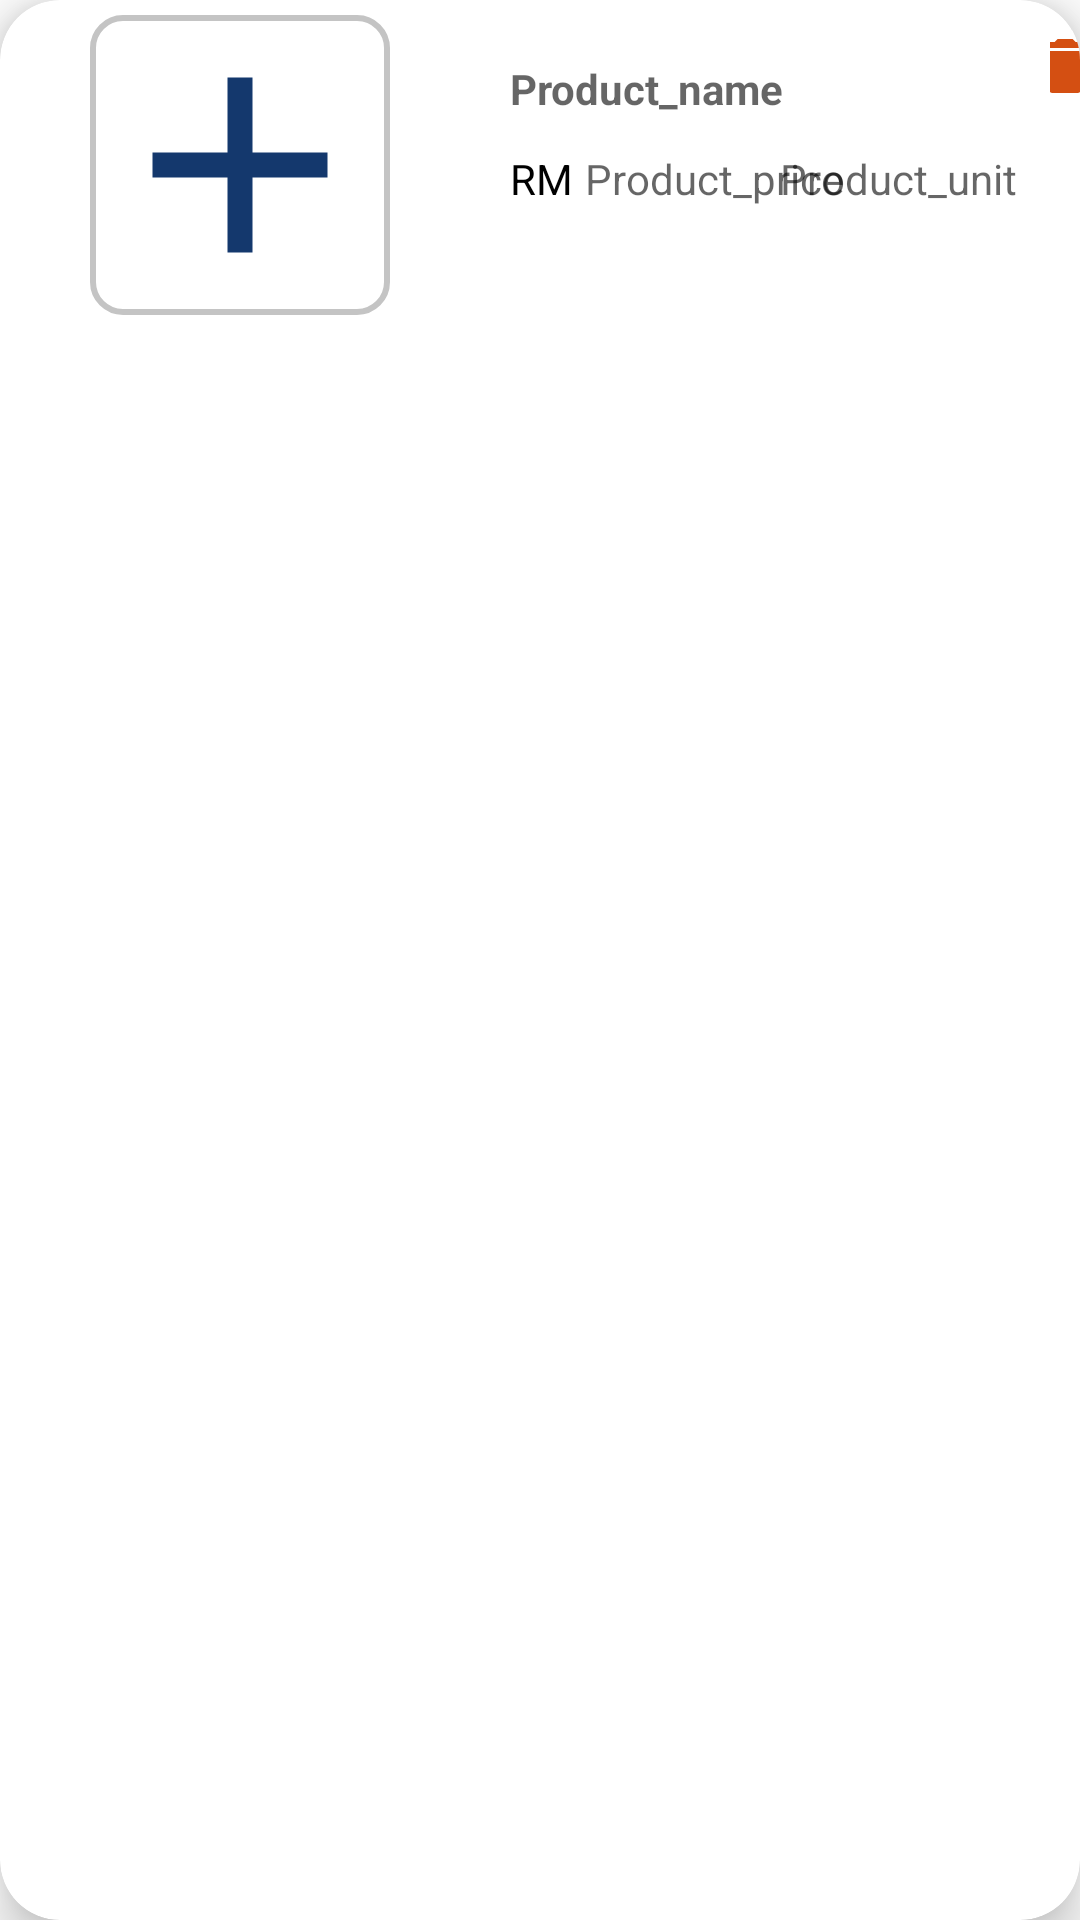

Icons on this 1080 × 1920 Android screen, each with the point to tap as (x,y):
add: (240,165)
delete: (1065,61)
